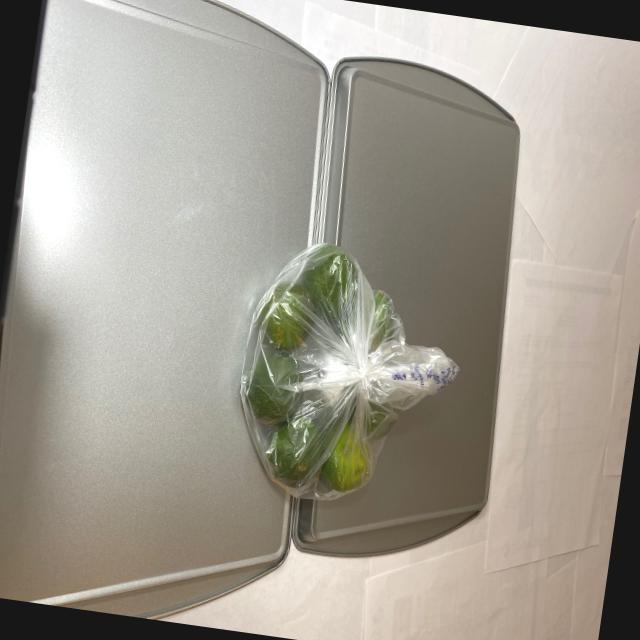lemon: (228, 236, 420, 502)
